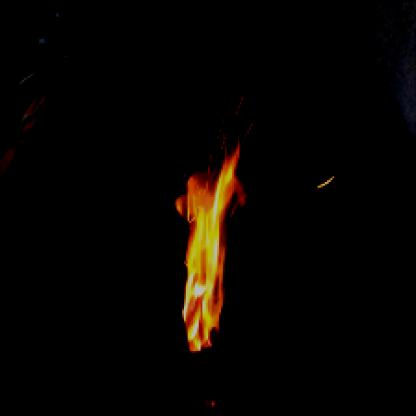Fire: (167, 108, 256, 354)
